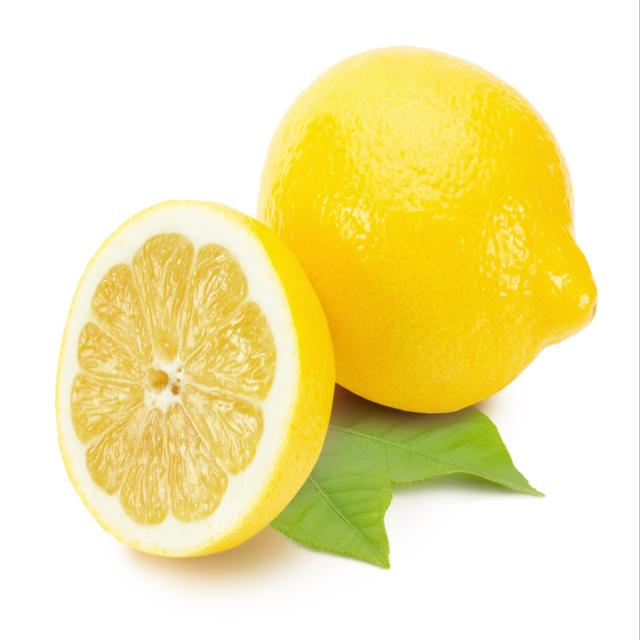lemon: (253, 38, 601, 414), (46, 191, 338, 563)
